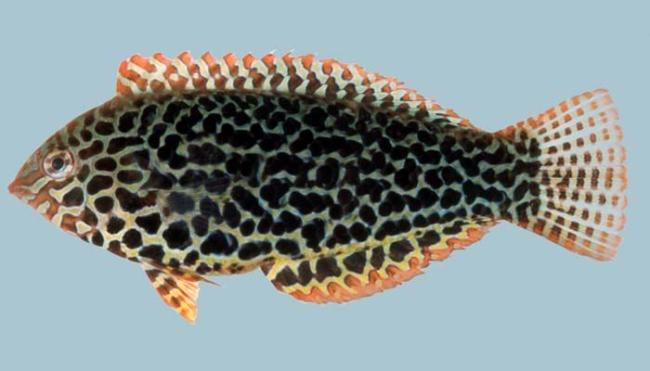fish: (7, 49, 629, 326)
